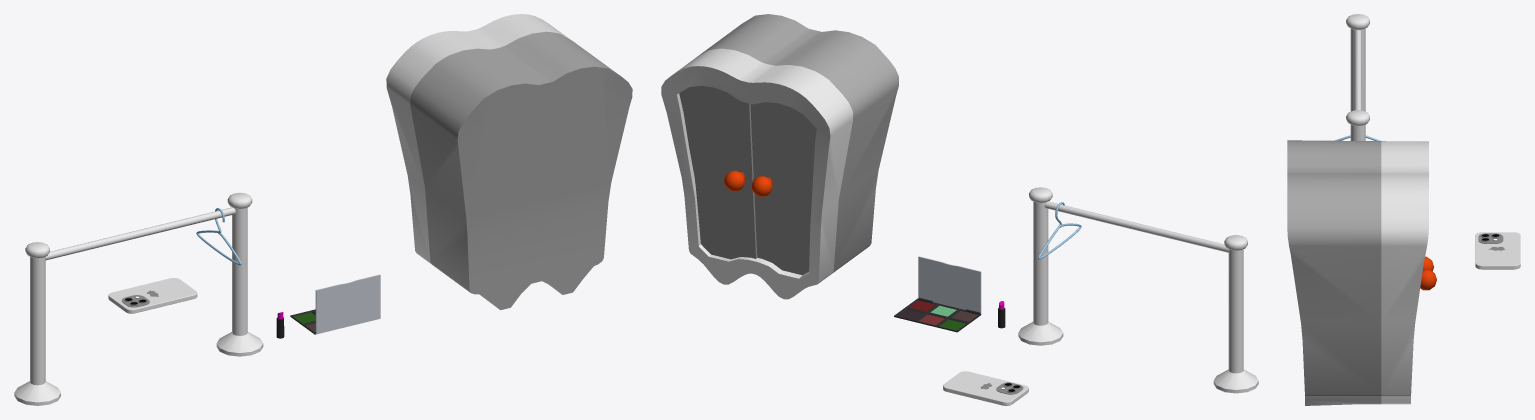
Rendered from lipsstuff.glb.
3 renders of one model, left to right at view 1: azimuth 30°, elevation 25°; view 2: azimuth 150°, elevation 25°; view 3: azimuth 270°, elevation 25°, orthographic. The views are drawn at different scales.
Parts seen in each view (by area): view 1: Cube, make up_pallete_open.004, Cylinder.001, Cylinder, Plane, Cylinder.002; view 2: Cube, make up_pallete_open.004, Cylinder.001, Cylinder, Plane, Cylinder.002; view 3: Cube, Plane, Cylinder.001, Cylinder.002, Cylinder.
Boxes of the visible parts, <box> form: Cube: <box>386,14,632,310</box>; make up_pallete_open.004: <box>290,274,380,334</box>; Cylinder.001: <box>14,242,60,405</box>; Cylinder: <box>216,192,263,356</box>; Plane: <box>108,278,197,313</box>; Cylinder.002: <box>45,207,235,260</box>; Cube: <box>661,14,898,299</box>; make up_pallete_open.004: <box>894,256,981,332</box>; Cylinder.001: <box>1213,235,1258,393</box>; Cylinder: <box>1018,187,1063,345</box>; Plane: <box>943,371,1028,405</box>; Cylinder.002: <box>1044,201,1228,252</box>; Cube: <box>1287,140,1436,405</box>; Plane: <box>1475,232,1520,269</box>; Cylinder.001: <box>1346,14,1369,111</box>; Cylinder.002: <box>1354,30,1361,110</box>; Cylinder: <box>1346,110,1369,140</box>.
Bounding box in the file's own units: 8.6 × 3.28 × 3.08.
Materials: 15 (2 with a texture image).
